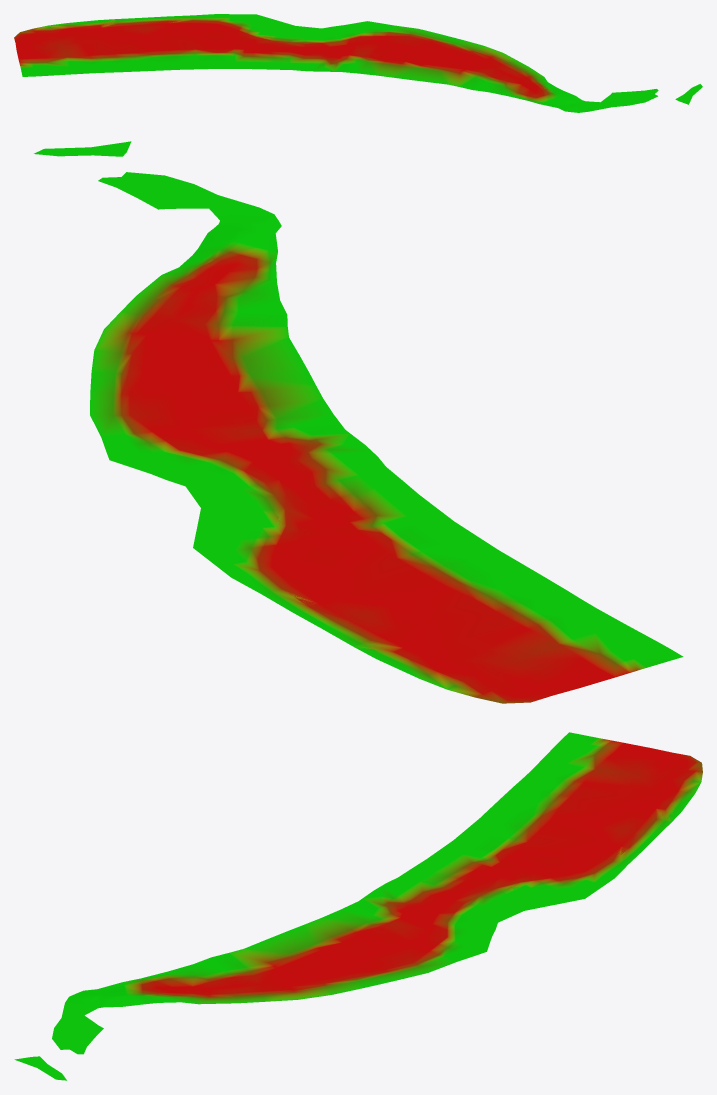
The model's file is pref_sm_beach_winter_sands_c_lv3.fbx.
3 views of the same model, one above another, from view 1: azimuth 30°, elevation 25°; view 2: azimuth 150°, elevation 25°; view 3: azimuth 270°, elevation 25° (orthographic). The views are drawn at different scales.
Visible parts, largest first — view 1: pref_sm_beach_winter_sands_c_lv3; view 2: pref_sm_beach_winter_sands_c_lv3; view 3: pref_sm_beach_winter_sands_c_lv3.
Boxes of the visible parts, x1=… form: pref_sm_beach_winter_sands_c_lv3: x1=14, y1=14, x2=702, y2=112; pref_sm_beach_winter_sands_c_lv3: x1=34, y1=141, x2=683, y2=703; pref_sm_beach_winter_sands_c_lv3: x1=14, y1=732, x2=702, y2=1080.
Size of the model in its own units: 45.31 by 0.1021 by 37.87.
